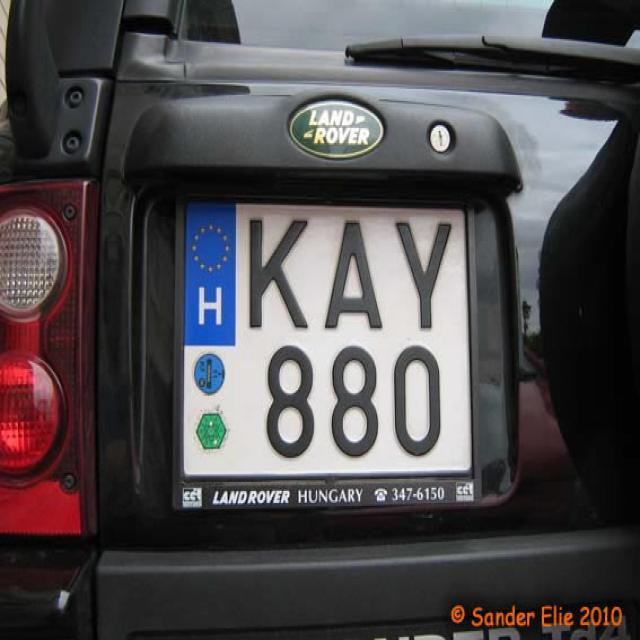licence: (177, 187, 481, 504)
